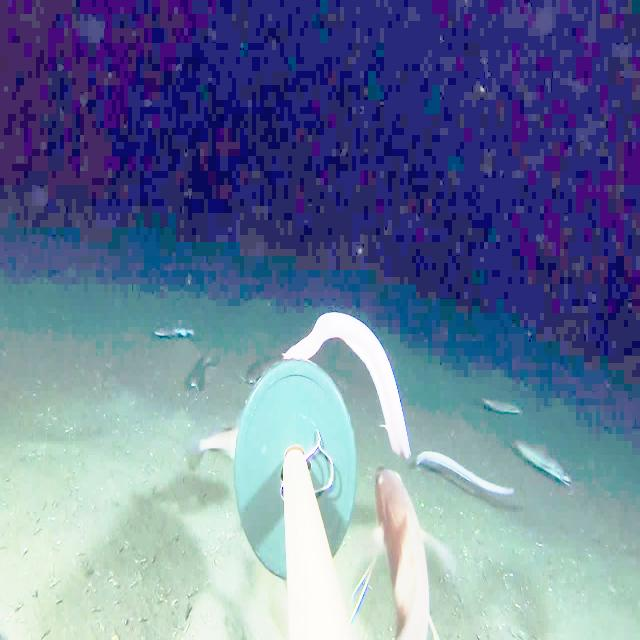eel: (276, 305, 412, 466), (415, 438, 524, 510)
fish: (361, 453, 445, 640), (509, 426, 582, 502), (236, 320, 292, 405), (190, 414, 244, 470), (475, 385, 537, 427), (136, 306, 200, 343), (184, 338, 216, 405)
pole: (242, 401, 350, 567)
